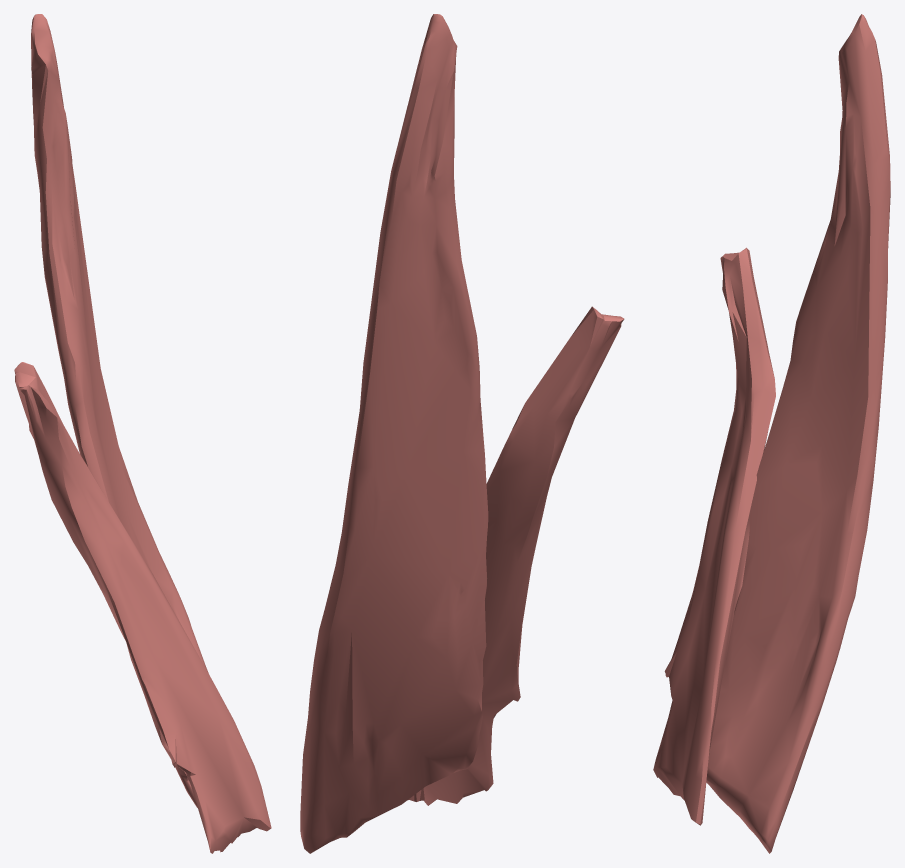
File: fma82389_mm4009.glb
3 renders of one model, left to right at view 1: azimuth 30°, elevation 25°; view 2: azimuth 150°, elevation 25°; view 3: azimuth 270°, elevation 25°, orthographic. The views are drawn at different scales.
Parts seen in each view (by area): view 1: FMA82389_MM4009; view 2: FMA82389_MM4009; view 3: FMA82389_MM4009.
Part boxes in pixels (x1=…): FMA82389_MM4009: x1=14, y1=14, x2=271, y2=853; FMA82389_MM4009: x1=300, y1=14, x2=624, y2=853; FMA82389_MM4009: x1=653, y1=14, x2=890, y2=853.
Size of the model in its own units: 0.0253 by 0.0752 by 0.0211.
